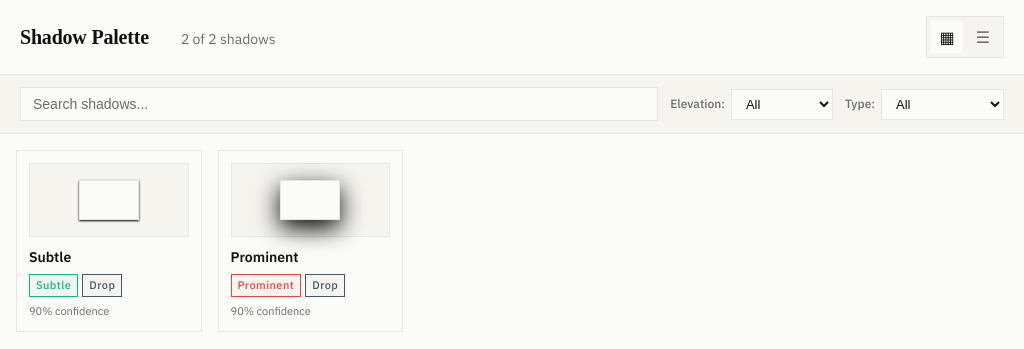
Test: ShadowPalette › Filters › should filter by elevation
Step 1. Select "Subtle" in the dropdown with class "filter-select" next to "Elevation:" → (782, 104), box [731,88,833,120]
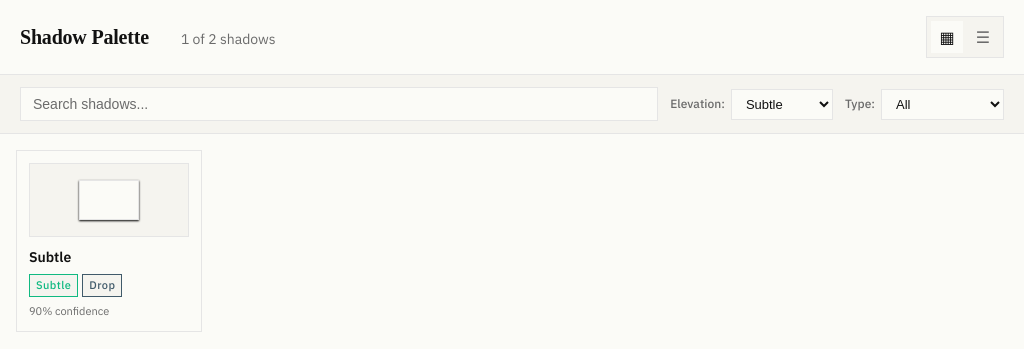
Expected: the number of elements with class "shadow-item" is 1, [16,150,202,332]
Result: the text "Prominent" is gone
